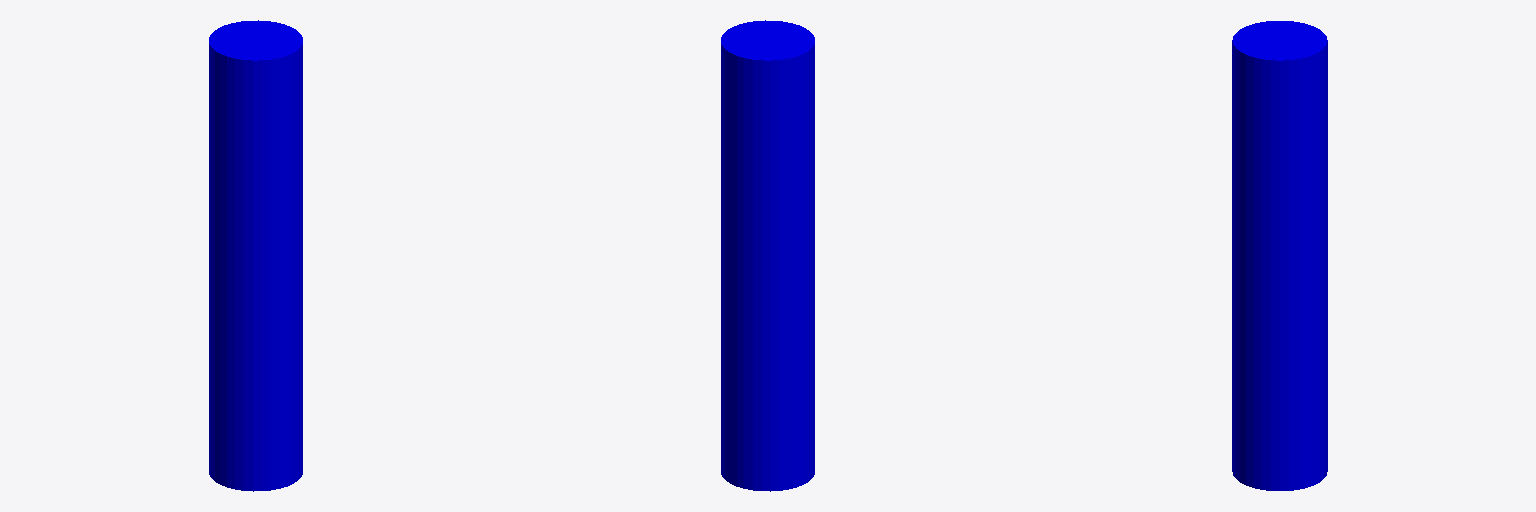
robot.urdf — pegboard20:
<?xml version="1.0" ?>
<robot name="pegboard20">
  <link name="peg1">
  <contact>
      <lateral_friction value="2"/>
  </contact>
    <inertial>
      <origin rpy="0 0 0" xyz="-0.25 0.13 0"/>
       <mass value=".0"/>
       <inertia ixx="0" ixy="0" ixz="0" iyy="0" iyz="0" izz="0"/>
    </inertial>
    <visual>
      <origin rpy="0 0 0" xyz="-0.25 0.13 0"/>
      <geometry>
      	<cylinder radius="0.03" length="0.3"/>
      </geometry>
       <material name="blue">
        <color rgba="0 0 1 1"/>
      </material>
    </visual>
    <collision>
      <origin rpy="0 0 0" xyz="-0.25 0.13 0"/>
      <geometry>
      	<cylinder radius="0.03" length="0.3"/>
      </geometry>
    </collision>
  </link>
</robot>

--- Render facts (derived) ---
Views: 3 orthographic renders of the robot side by side, from view 1: azimuth 30°, elevation 25°; view 2: azimuth 150°, elevation 25°; view 3: azimuth 270°, elevation 25°.
Model pegboard20 with 1 links and 0 joints (none), rooted at peg1, posed all joints at 0.
Visible links, largest first — view 1: peg1; view 2: peg1; view 3: peg1.
Boxes of the visible links, x1,y1,x2,y2 form: peg1: (209,20,302,491); peg1: (721,20,814,491); peg1: (1232,21,1327,490).
Bounding box of the posed robot: 0.06 × 0.06 × 0.3 m (x, y, z).
Geometry: primitives only (box / cylinder / sphere), no mesh files.